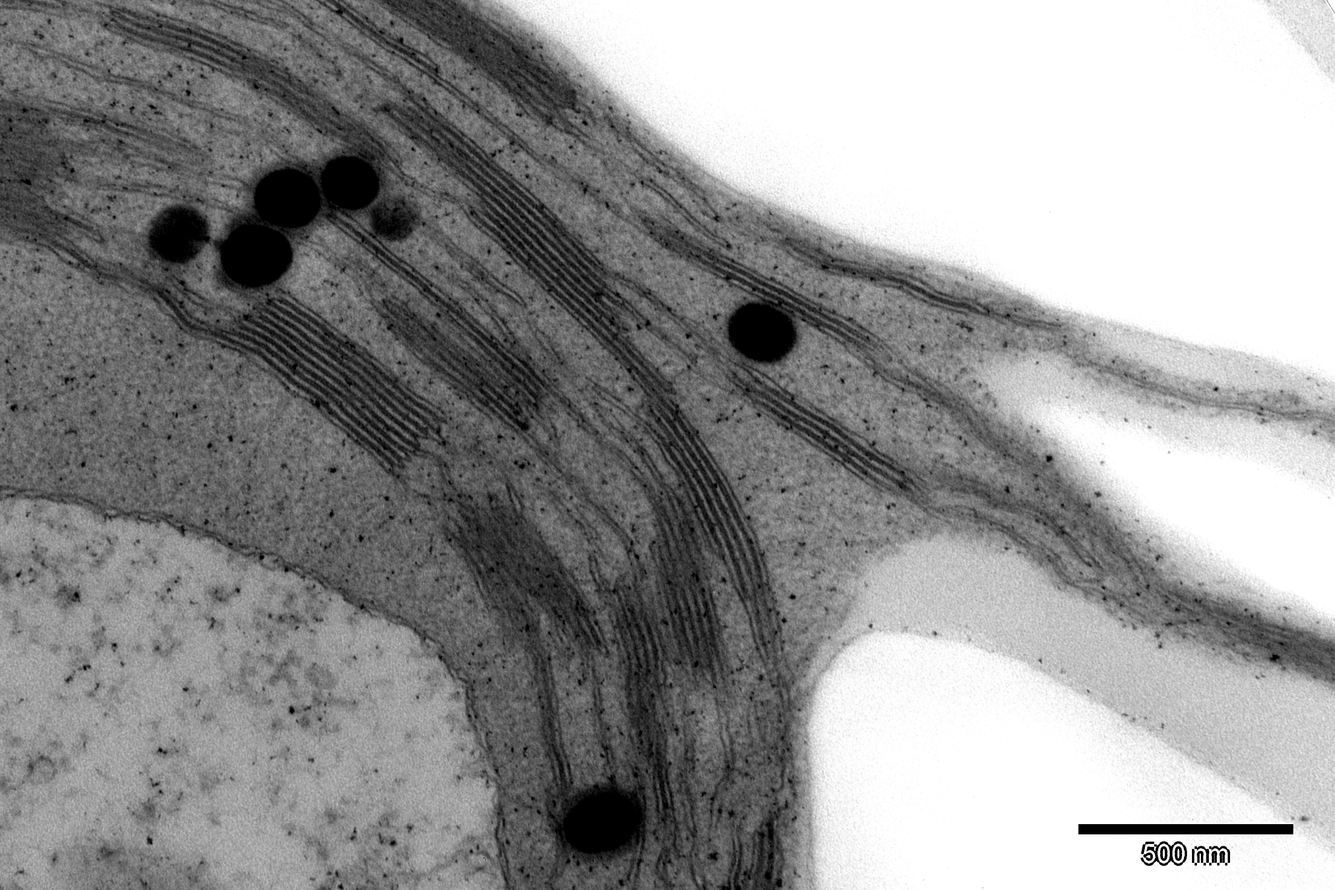granum: (371, 87, 676, 397), (628, 395, 802, 698), (97, 3, 402, 165), (204, 283, 453, 481), (644, 212, 884, 367), (438, 495, 612, 688), (366, 0, 586, 133), (730, 366, 929, 508), (370, 291, 537, 441), (645, 480, 737, 689), (596, 560, 678, 758), (0, 92, 93, 266), (431, 296, 557, 410), (1216, 599, 1334, 687), (743, 827, 791, 890)
